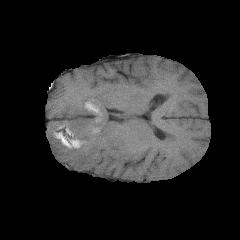glioma: (50, 96, 128, 169)
